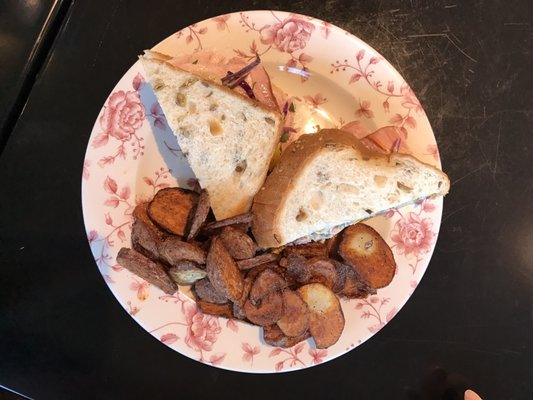curry: (0, 2, 516, 400)
